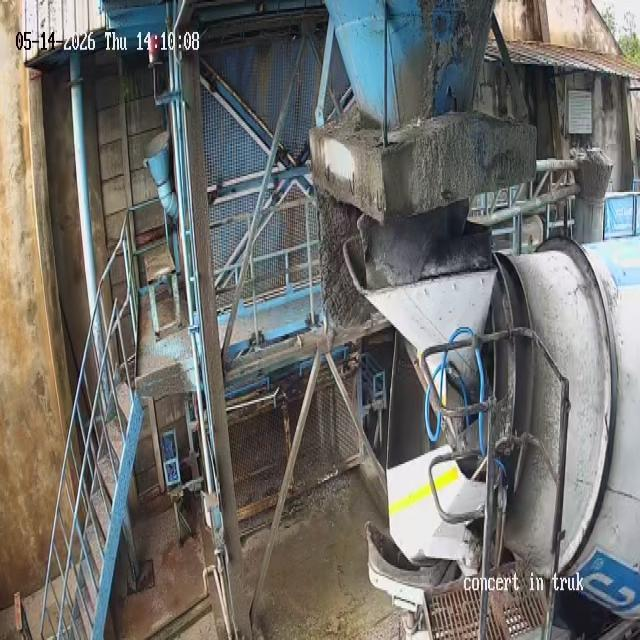cement_mixer_truck: (339, 224, 639, 640)
